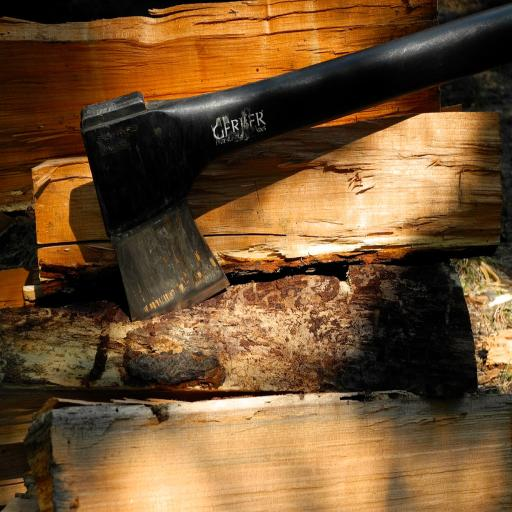Axe: (80, 1, 506, 326)
